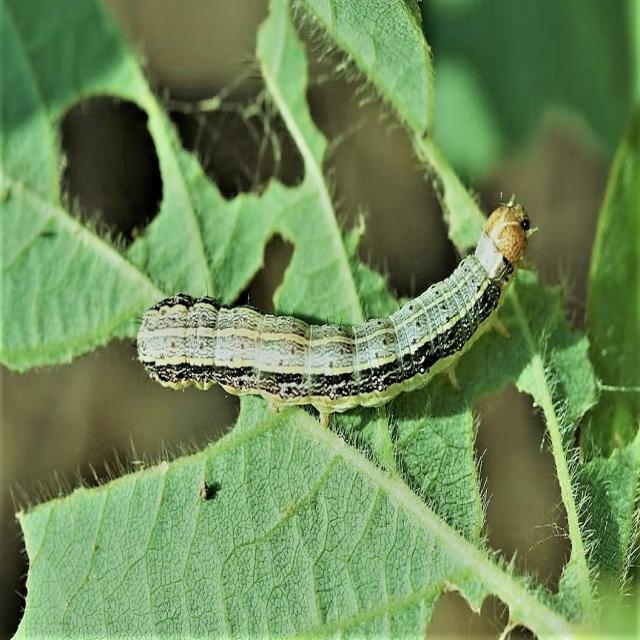armyworm: (134, 190, 538, 426)
